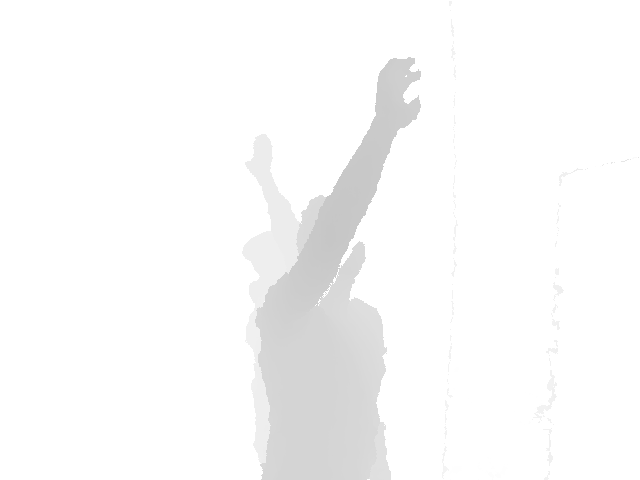hand: (375, 56, 421, 130), (245, 133, 272, 183)
head: (298, 194, 366, 308), (243, 228, 291, 303)
person: (253, 56, 422, 480), (242, 133, 302, 480)
